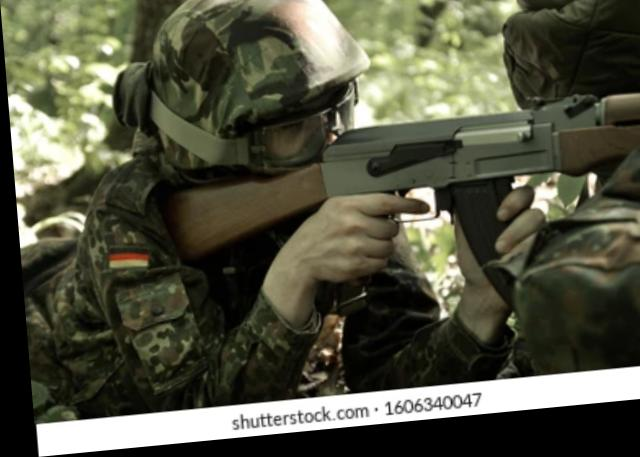other: (83, 0, 383, 380)
